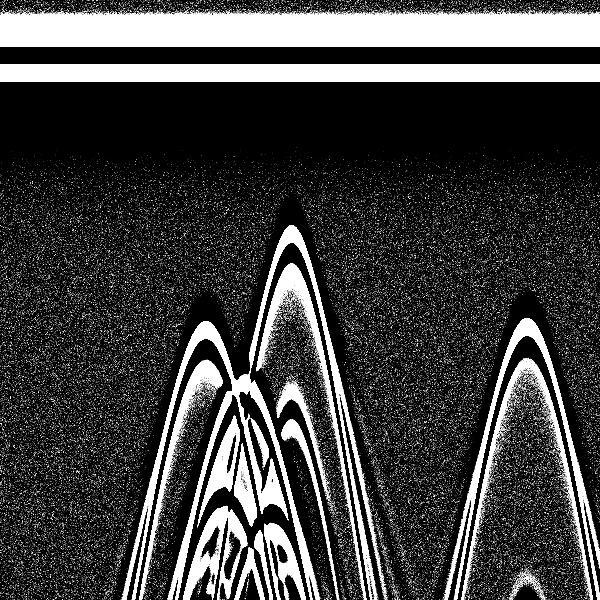pipe: (477, 5, 573, 411), (156, 5, 249, 408), (244, 5, 333, 313)
